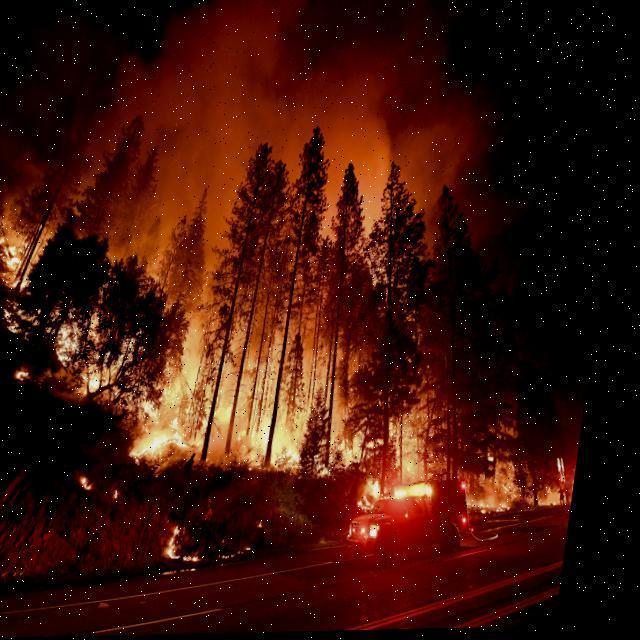Fire: (0, 213, 615, 532)
